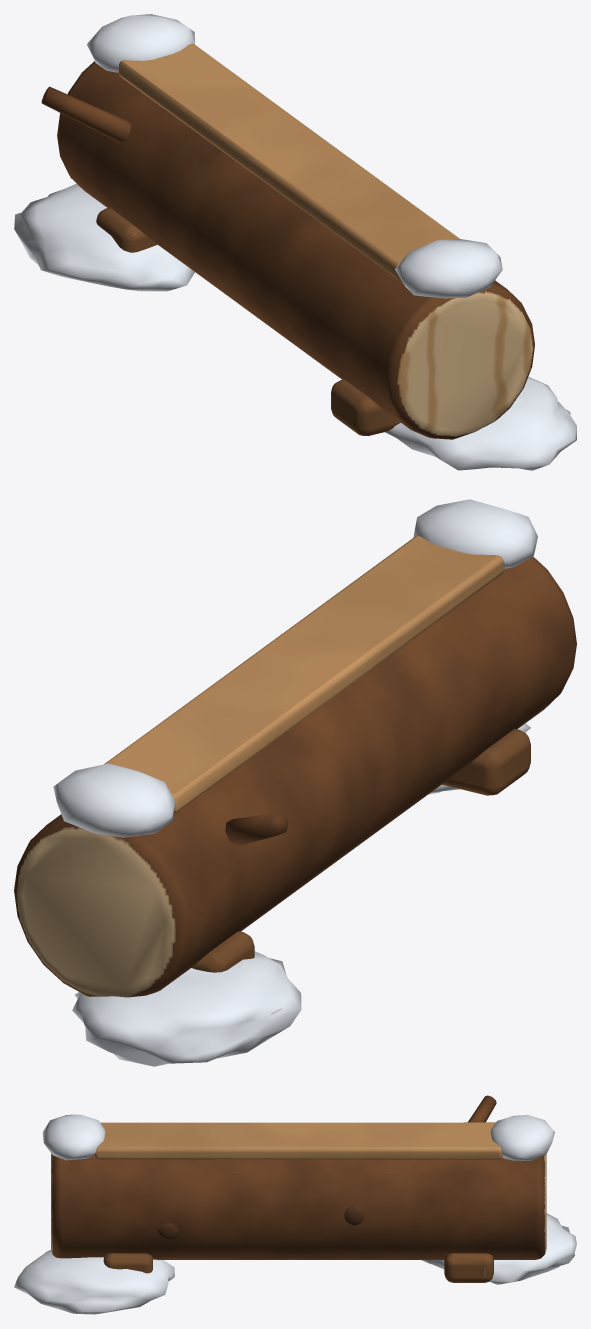
File: log_seat_y.glb
3 renders of one model, top to bottom at view 1: azimuth 30°, elevation 25°; view 2: azimuth 150°, elevation 25°; view 3: azimuth 270°, elevation 25°, orthographic. The views are drawn at different scales.
Visible parts, largest first — view 1: chock; view 2: chock; view 3: chock.
Boxes of the visible parts, left/top/right/bottom form: chock: left=14, top=14, right=576, bottom=470; chock: left=14, top=499, right=576, bottom=1066; chock: left=14, top=1095, right=576, bottom=1314.
Size of the model in its own units: 0.6832 by 0.5797 by 1.82.
1 material, 1 textured.
